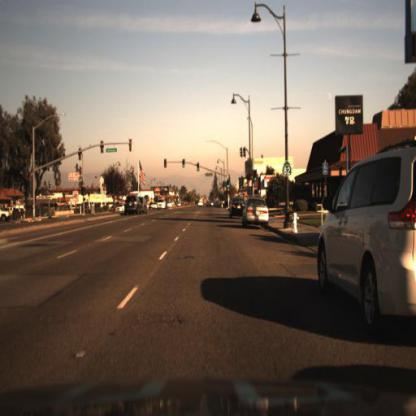car: (317, 137, 416, 338), (241, 194, 271, 234), (225, 194, 244, 224), (123, 192, 143, 219), (126, 192, 141, 215), (111, 202, 127, 219)
trafficLight-Green: (195, 159, 203, 175), (226, 180, 233, 193), (183, 158, 188, 171)
